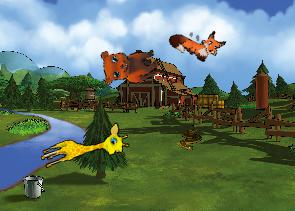bear: (95, 35, 163, 92)
fox: (166, 14, 228, 69)
giraffe: (37, 120, 132, 179)
